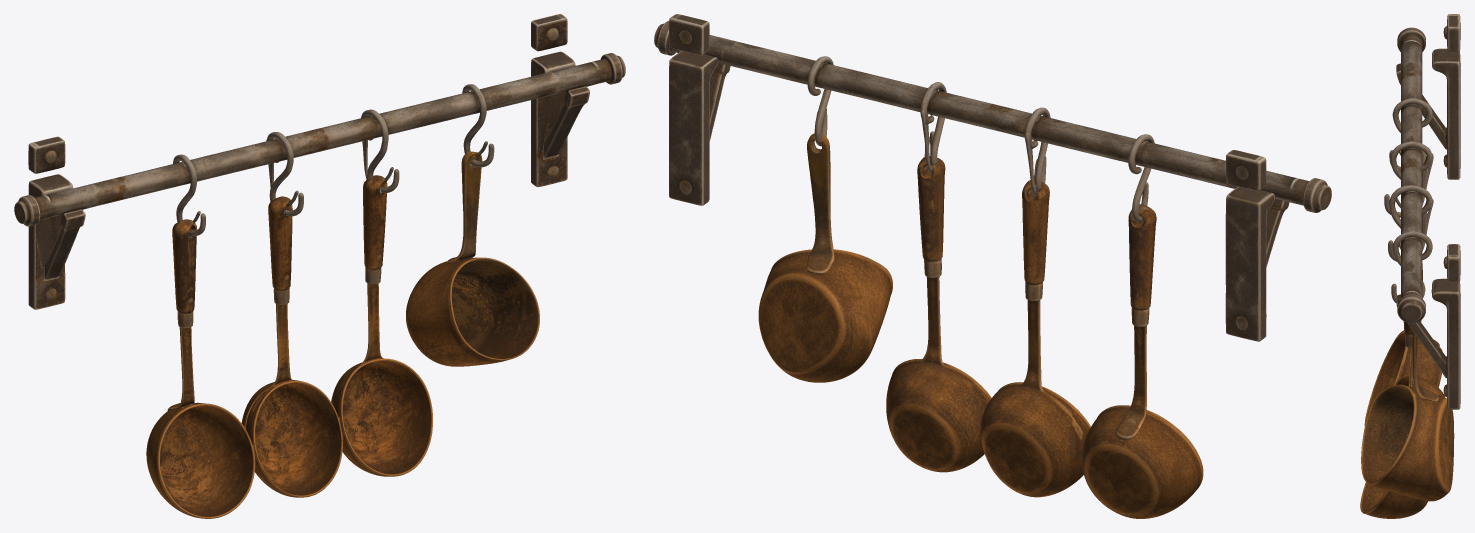
File: k_potrail.glb
3 views of the same model, side by side, from view 1: azimuth 30°, elevation 25°; view 2: azimuth 150°, elevation 25°; view 3: azimuth 270°, elevation 25° (orthographic). The views are drawn at different scales.
Bounding box in the file's own units: 1.9 × 1.15 × 0.2925.
Materials: 1 (1 with a texture image).
